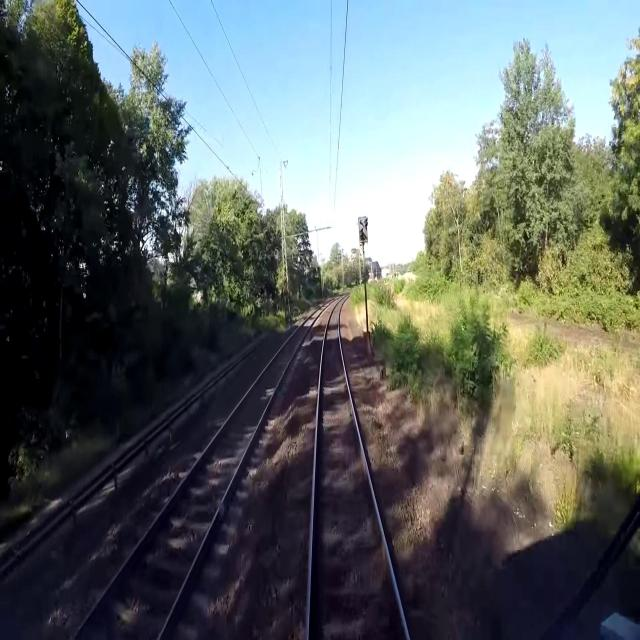rail-track: (79, 309, 320, 639), (310, 300, 406, 639), (0, 527, 46, 574)
